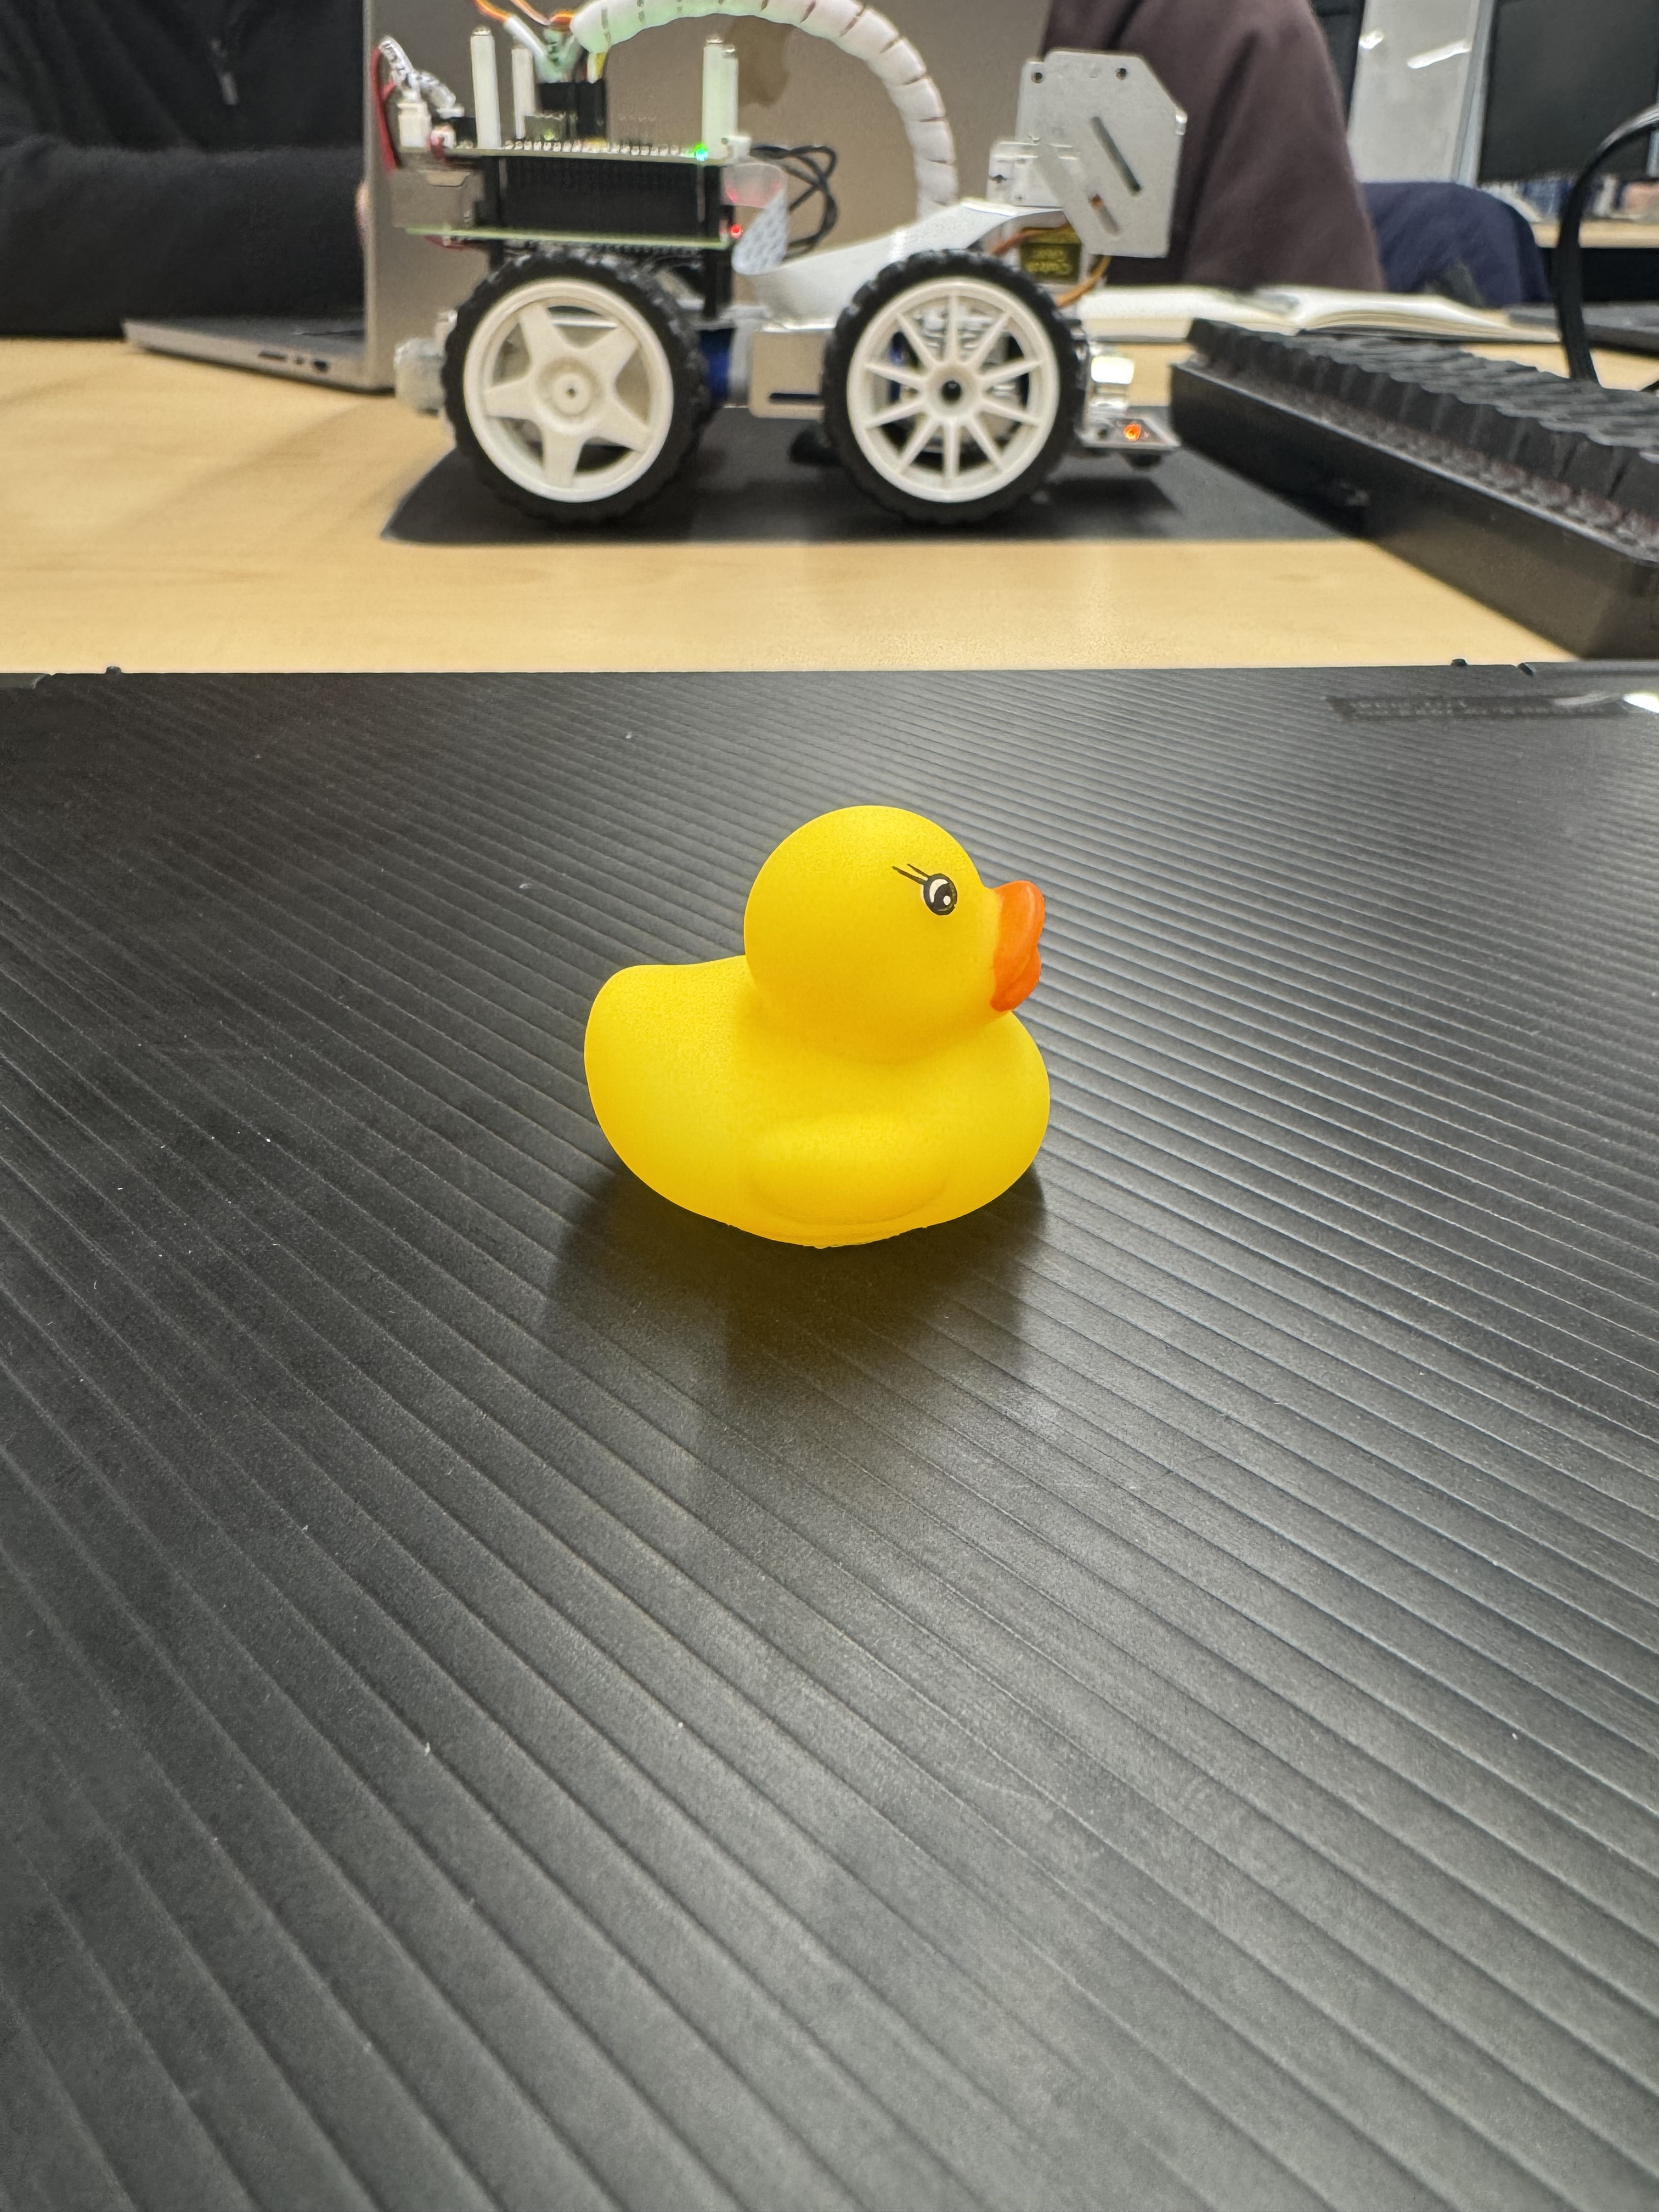duck_regular: (586, 786, 1087, 1261)
